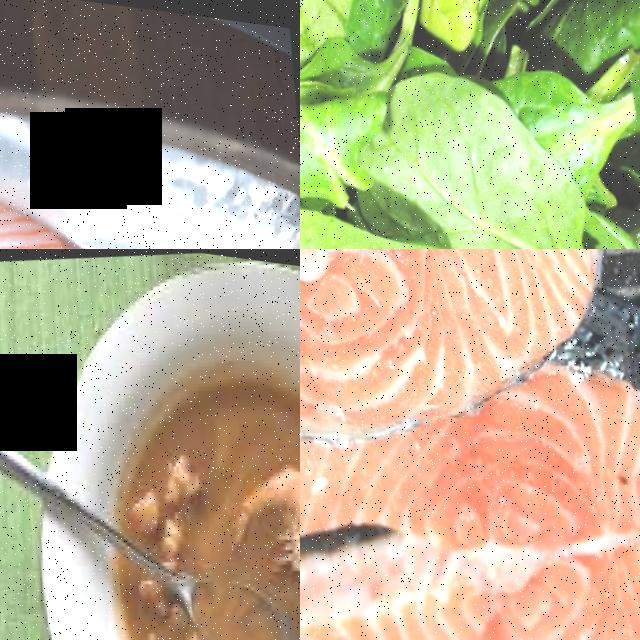salmon: (300, 249, 640, 464), (404, 346, 640, 640), (0, 183, 278, 249)
shrimp: (221, 439, 300, 584)
spinach: (358, 36, 570, 249), (300, 175, 463, 249)
